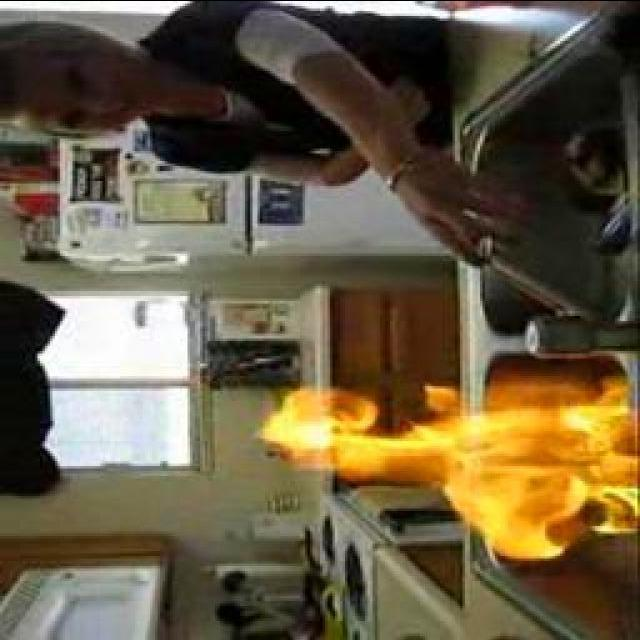Fire: (424, 375, 640, 565), (254, 387, 440, 491)
